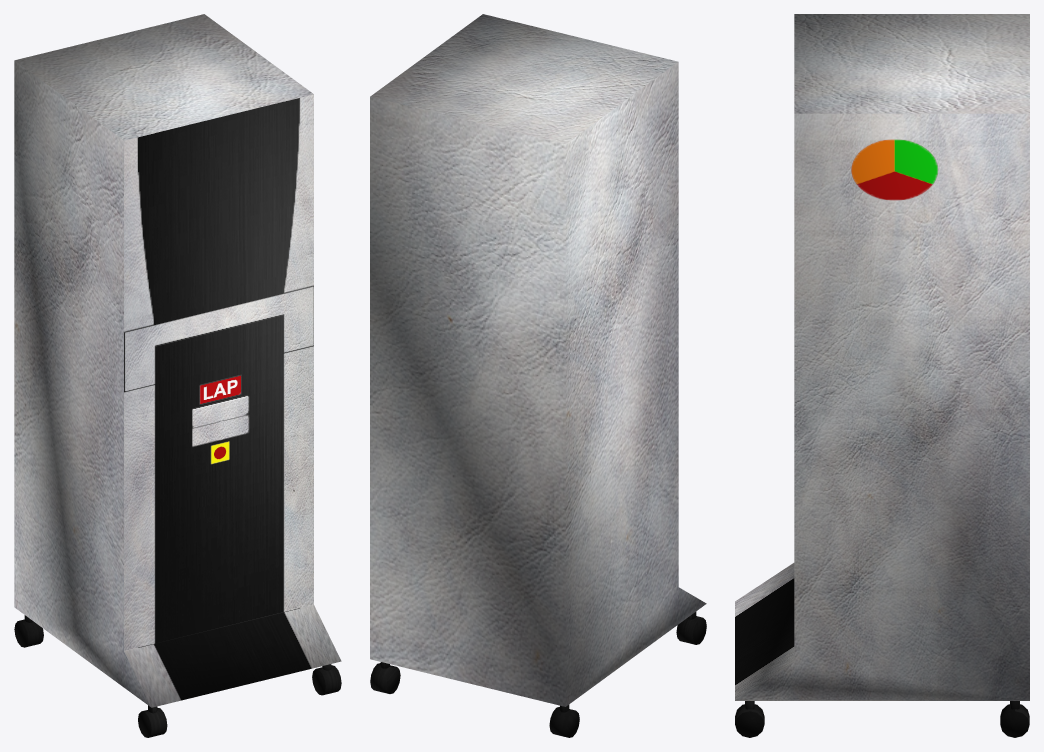
Rendered from LAPMachineSmooth.fbx.
3 views of the same model, side by side, from view 1: azimuth 30°, elevation 25°; view 2: azimuth 150°, elevation 25°; view 3: azimuth 270°, elevation 25° (orthographic). The views are drawn at different scales.
Parts seen in each view (by area): view 1: lapController.000; view 2: lapController.000; view 3: lapController.000.
Part boxes in pixels (box(x1,y1,x2,y2)): lapController.000: box(14, 14, 341, 737); lapController.000: box(370, 14, 706, 737); lapController.000: box(735, 14, 1029, 737).
Bounding box in the file's own units: 60.96 × 178 × 76.25.
